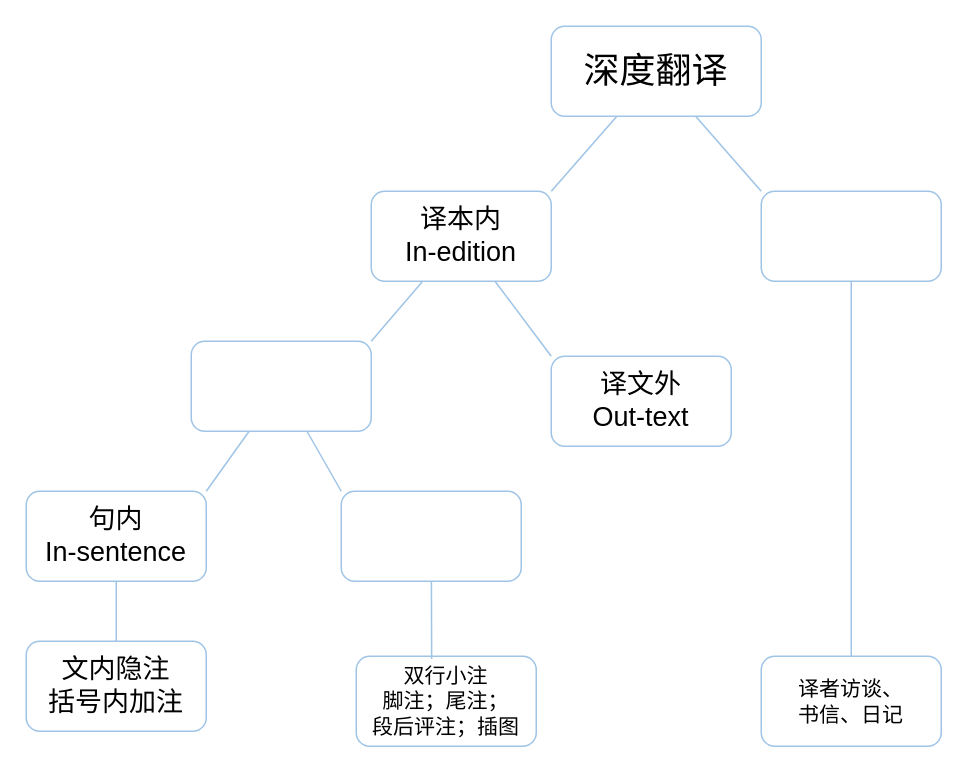
Image size: 968x773. Some labels were removed from this diagram. Each missing label, with the centre of its shape:
"句外 Out-sentence" belongs at (430,535).
"译文内 In-text" belongs at (280,385).
"译本外 Out-edition" belongs at (850,235).
